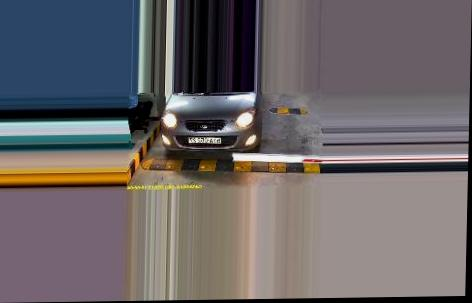License_Plate: (186, 136, 224, 146)
